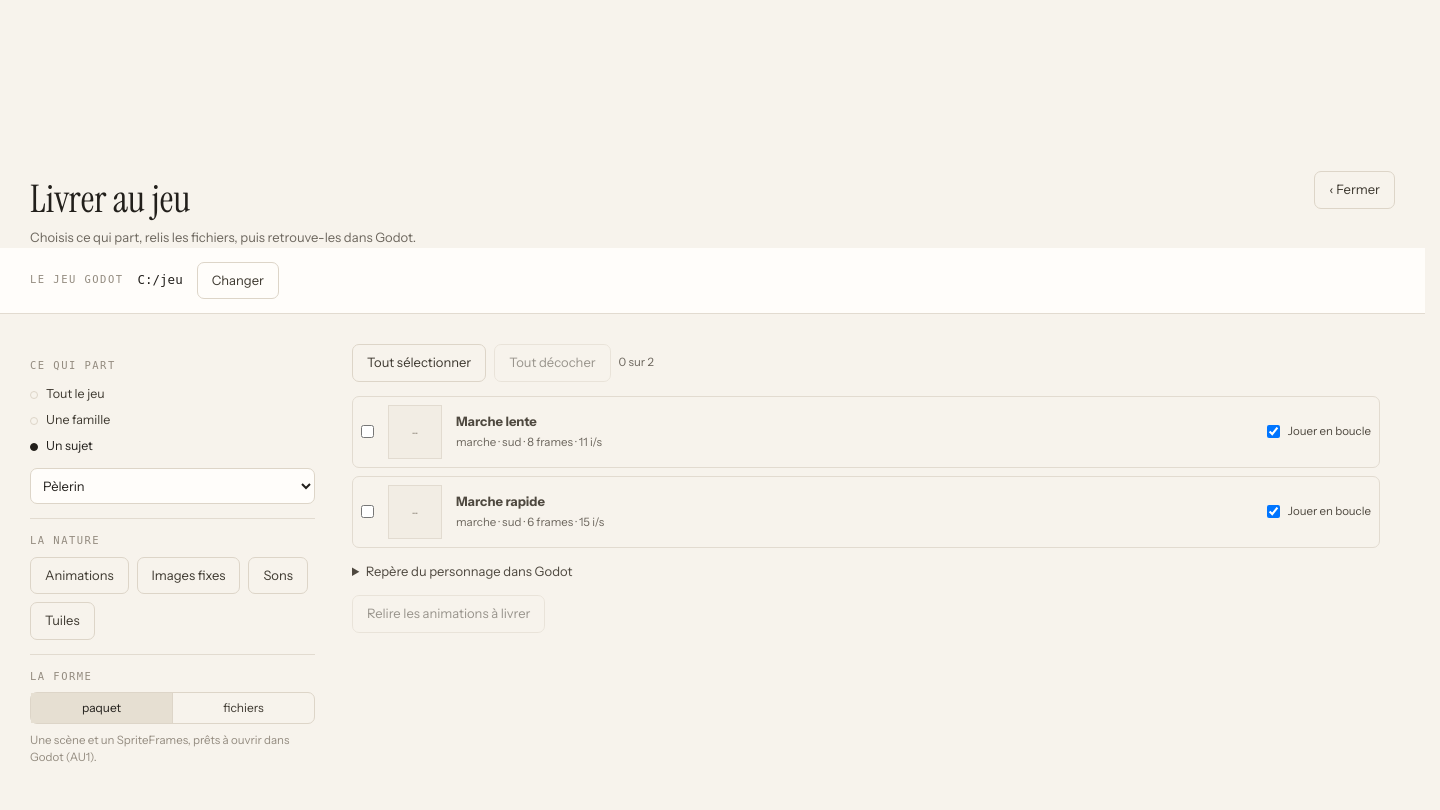
Test: le paquet Godot d'un sujet › publie seulement l'instantané relu et invalide l'aperçu après changement de sélection
(page scrolled)
Click the checkbox labelled "… Marche lente marche · sud · 8 frames · 11 i/s": (368,432) [361, 425, 374, 438]
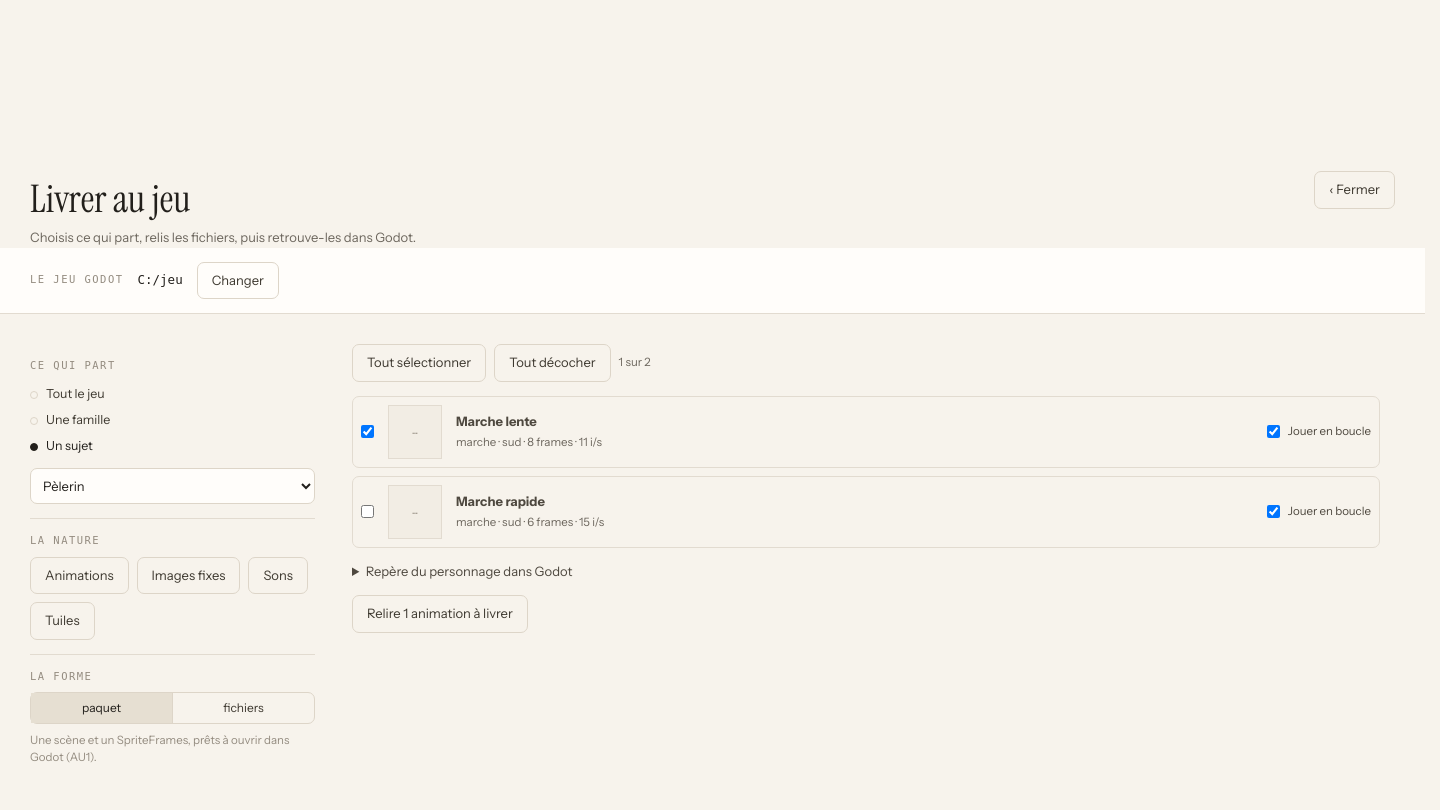
Click the button "Relire 1 animation à livrer": (440,614) [352, 595, 528, 632]
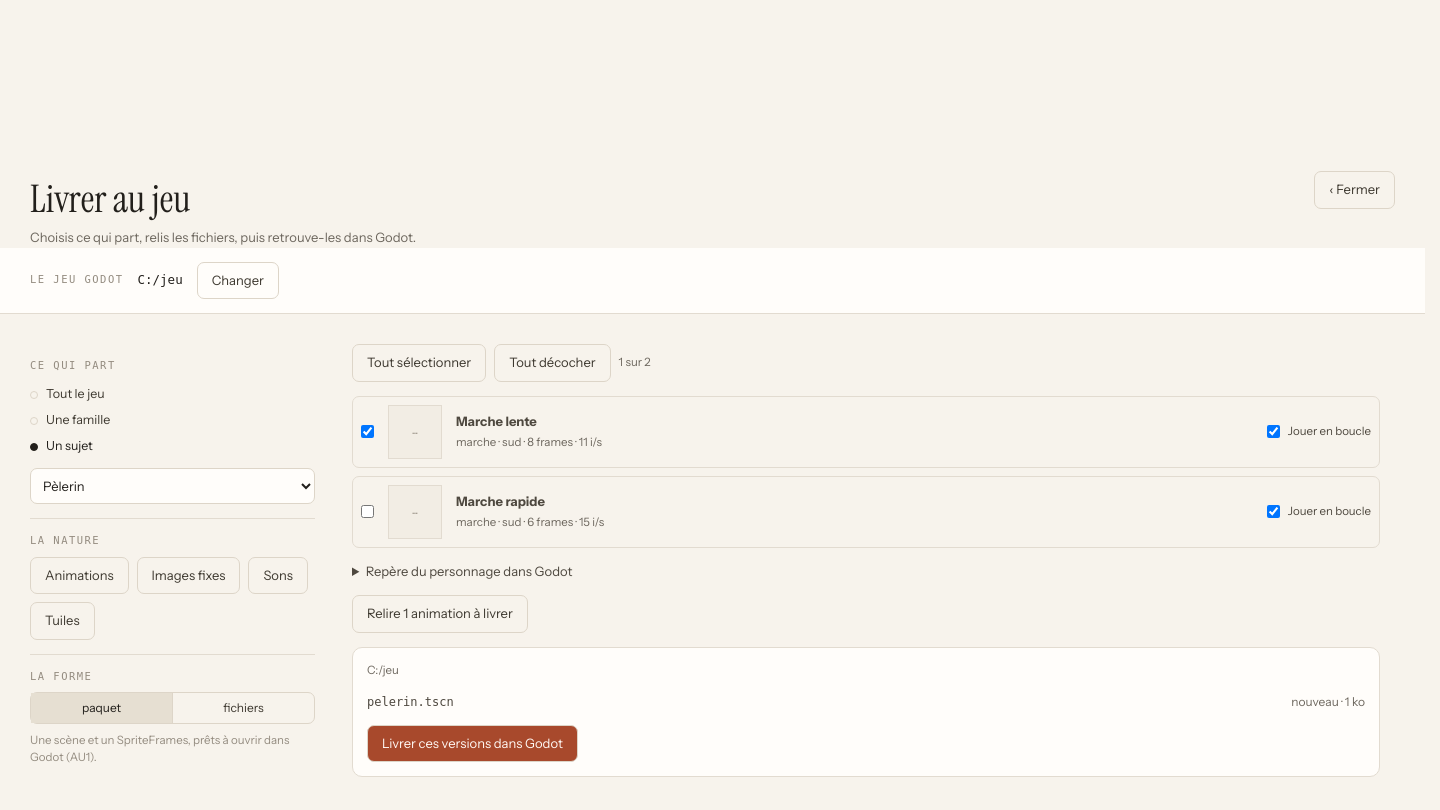
Result: the button "Livrer ces versions dans Godot" is shown at [367, 725, 578, 762]
Click the checkbox labelled "… Marche rapide marche · sud · 6 frames · 15 i/s": (368,512) [361, 505, 374, 518]
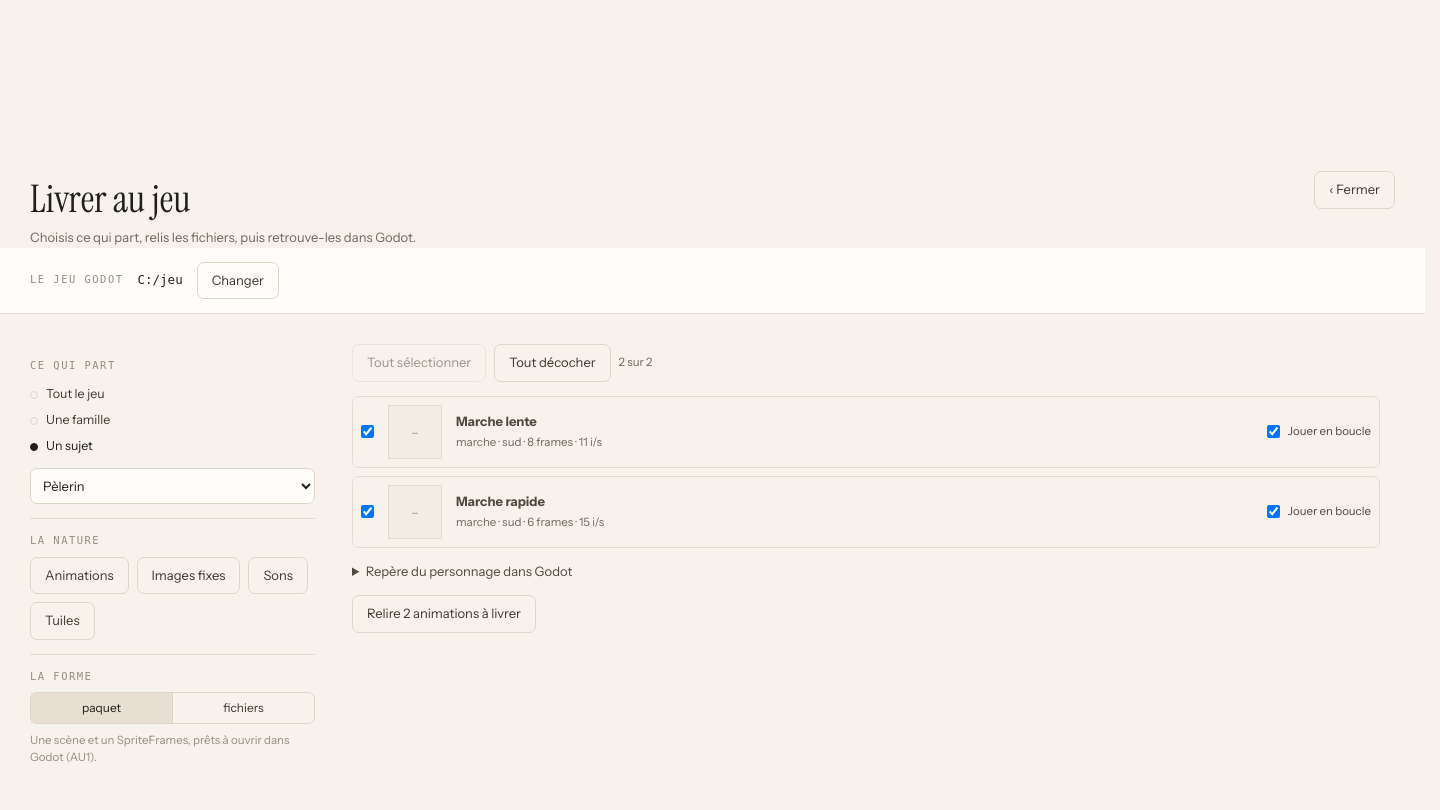
Result: the button "Livrer ces versions dans Godot" is gone
Click the button "Relire 2 animations à livrer": (444,614) [352, 595, 536, 632]
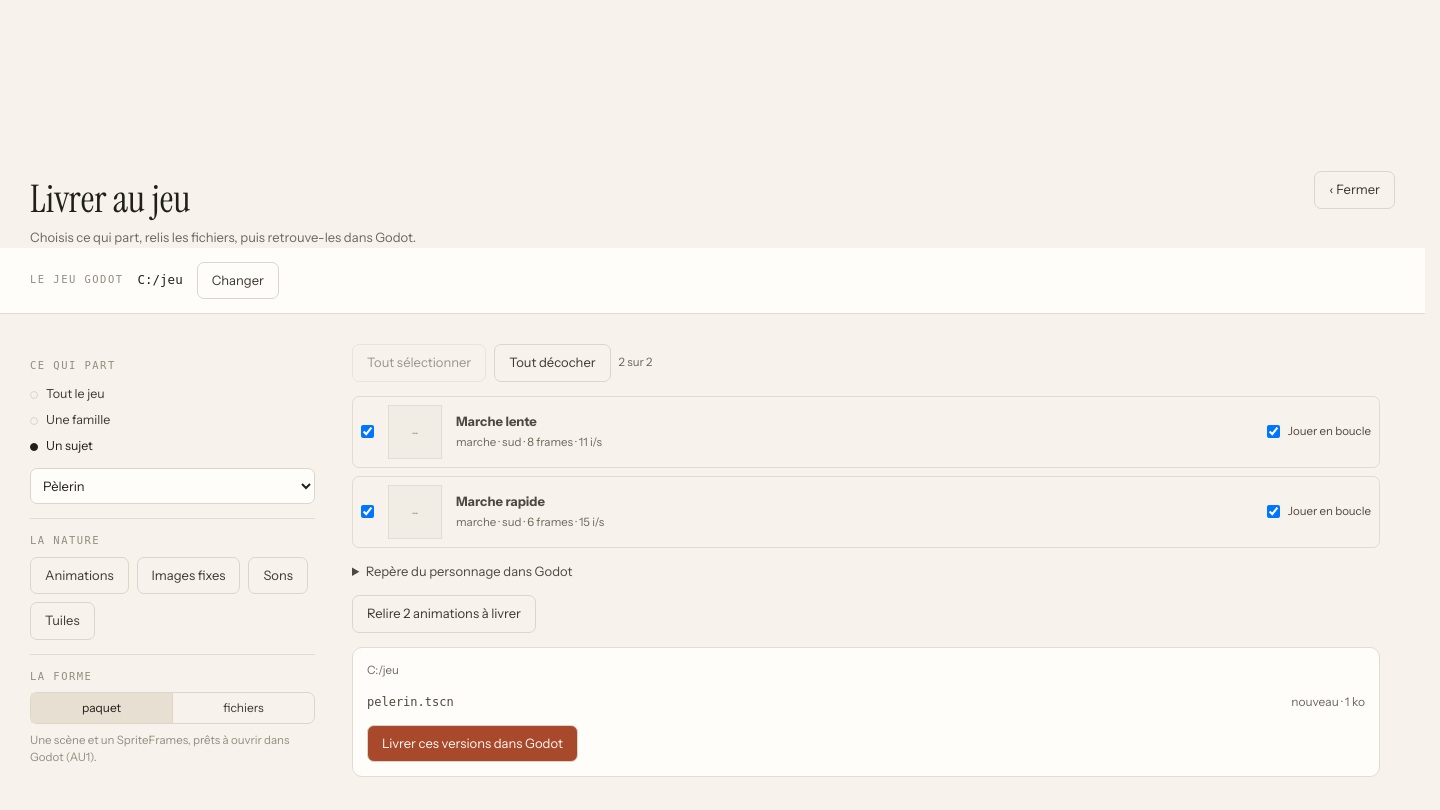
Click the button "Livrer ces versions dans Godot": (472,744) [367, 725, 578, 762]
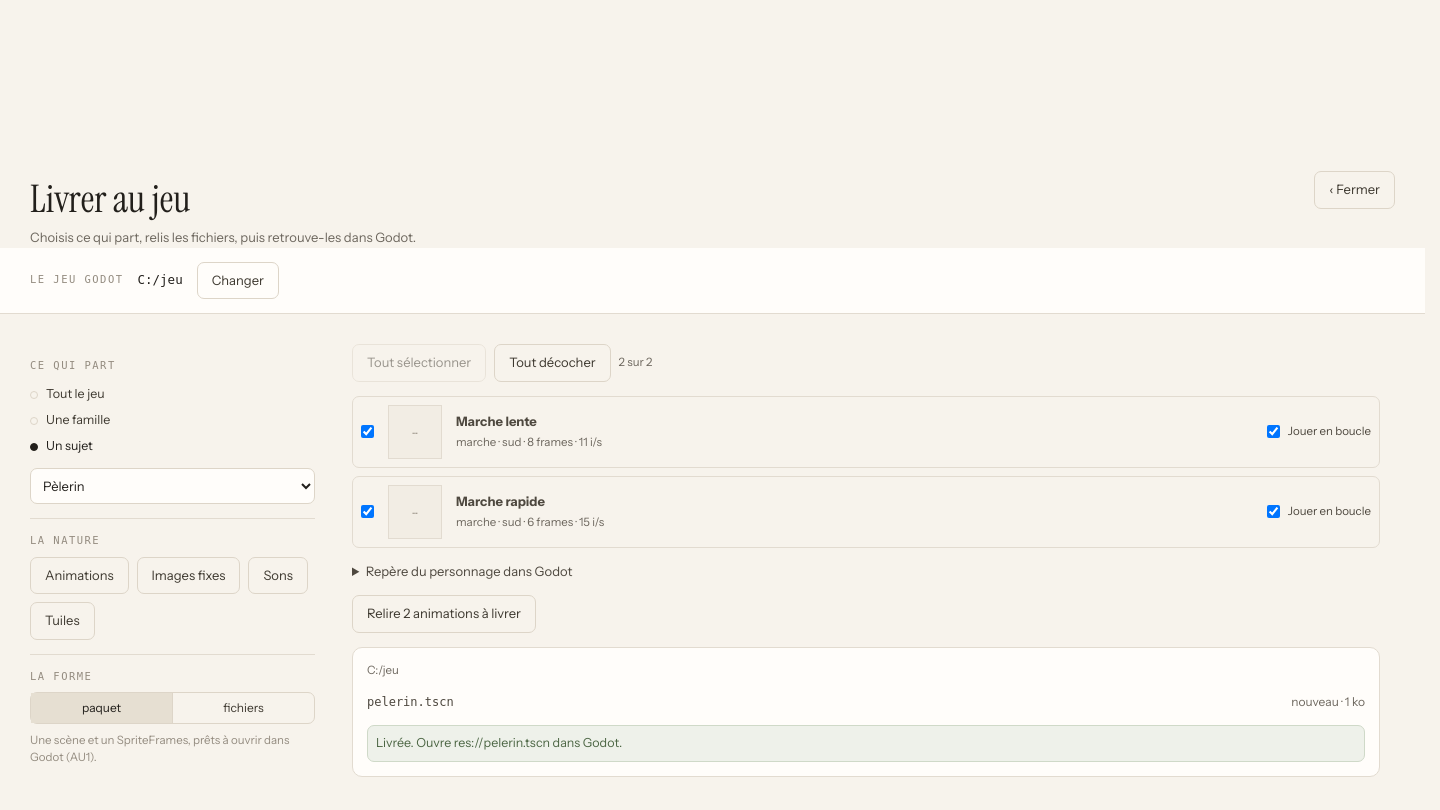
Result: the message shows "res://pelerin.tscn" at [454, 735, 550, 750]
